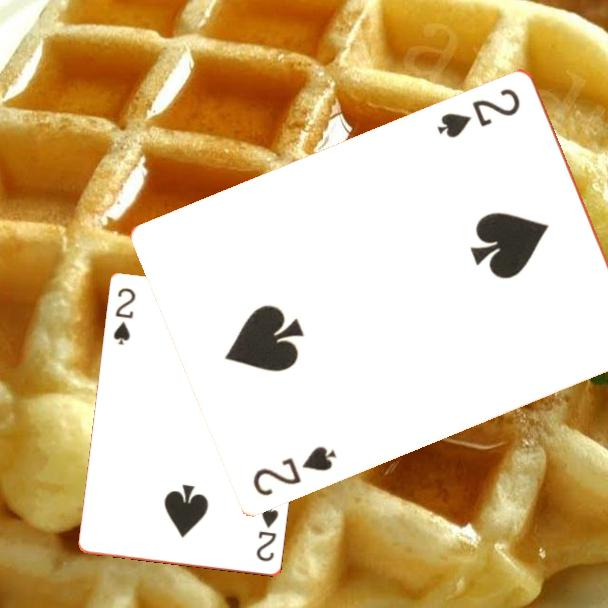s02: (433, 84, 524, 141), (249, 441, 340, 498), (110, 285, 139, 348), (253, 502, 281, 565)
